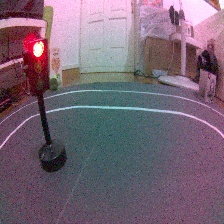red: (17, 32, 68, 176)
